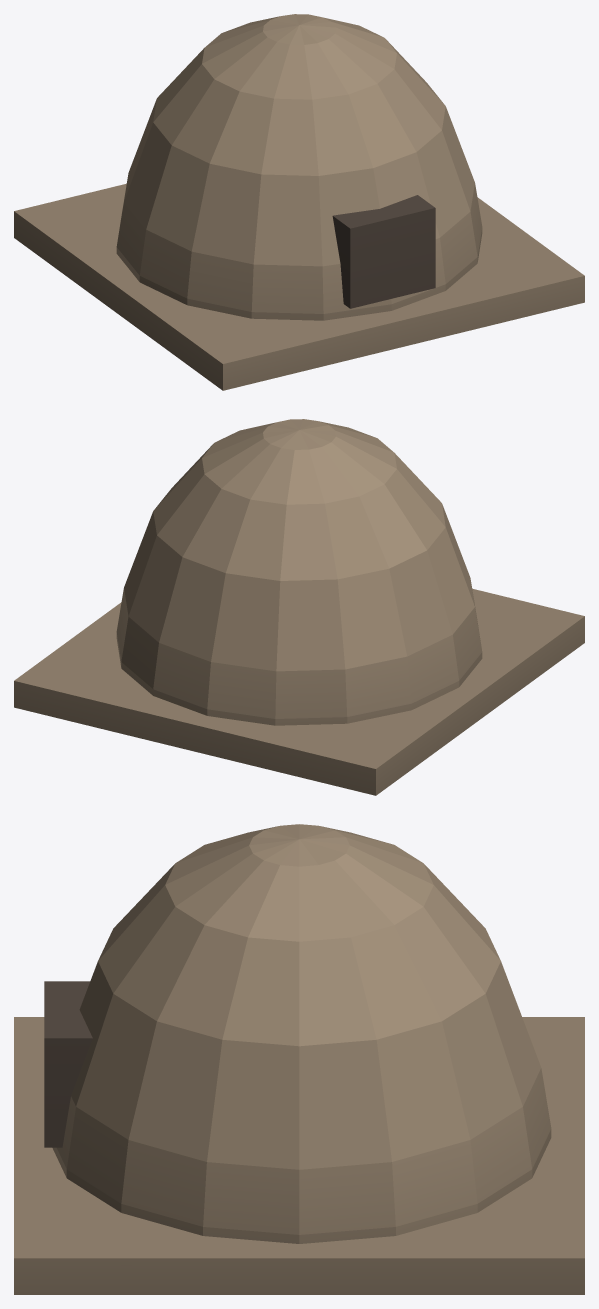
The model's file is adb_oven.glb.
The picture shows the model from 3 angles, top to bottom: view 1: azimuth 30°, elevation 25°; view 2: azimuth 150°, elevation 25°; view 3: azimuth 270°, elevation 25°; orthographic projection. The views are drawn at different scales.
Parts seen in each view (by area): view 1: adb_oven; view 2: adb_oven; view 3: adb_oven.
Part boxes in pixels (x1=…): adb_oven: x1=14, y1=14, x2=584, y2=390; adb_oven: x1=14, y1=419, x2=584, y2=795; adb_oven: x1=14, y1=824, x2=584, y2=1294.
Bounding box in the file's own units: 1.7 × 1.1 × 1.7.
